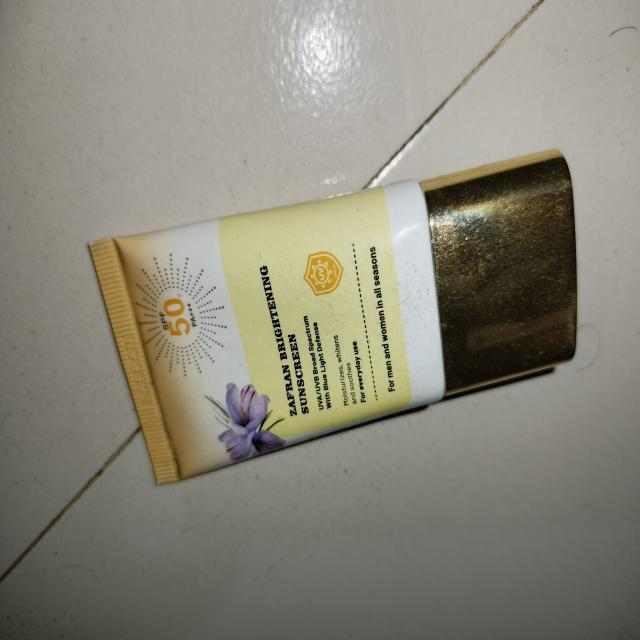Squeeze Tube: (82, 146, 588, 458)
